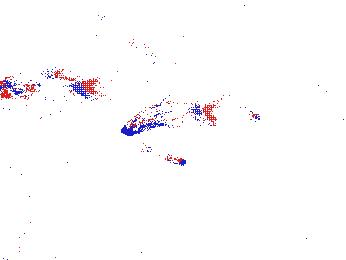X-ray fish: (13, 85, 87, 122)
red belly glassfish: (143, 142, 187, 168), (232, 97, 263, 123)
redtail glassfish: (120, 89, 217, 138), (1, 65, 102, 105), (130, 33, 162, 71)
